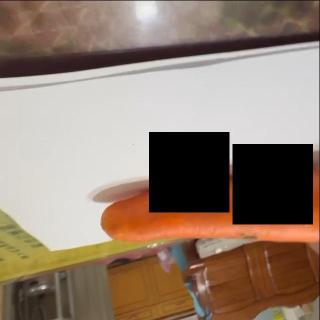carrot: (97, 164, 320, 244)
